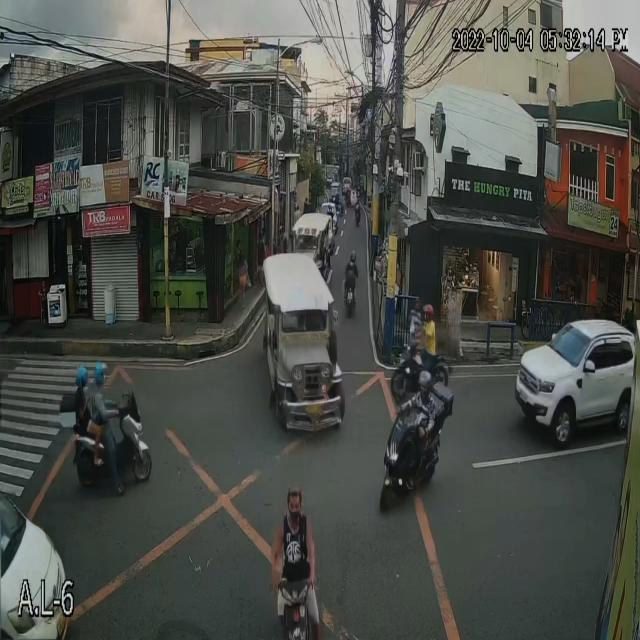Full-Faced: (74, 360, 91, 393), (414, 368, 434, 396), (93, 359, 108, 389), (421, 300, 435, 325), (349, 246, 359, 264)
Not-Wearing-Helmet: (285, 489, 303, 534)
